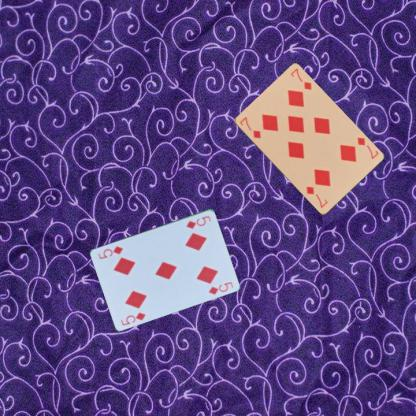5d: (118, 309, 147, 327), (184, 213, 212, 230)
7d: (354, 134, 380, 160), (237, 114, 262, 140)
